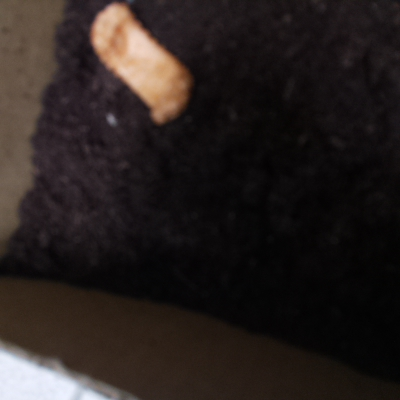eggs: (84, 1, 201, 129)
